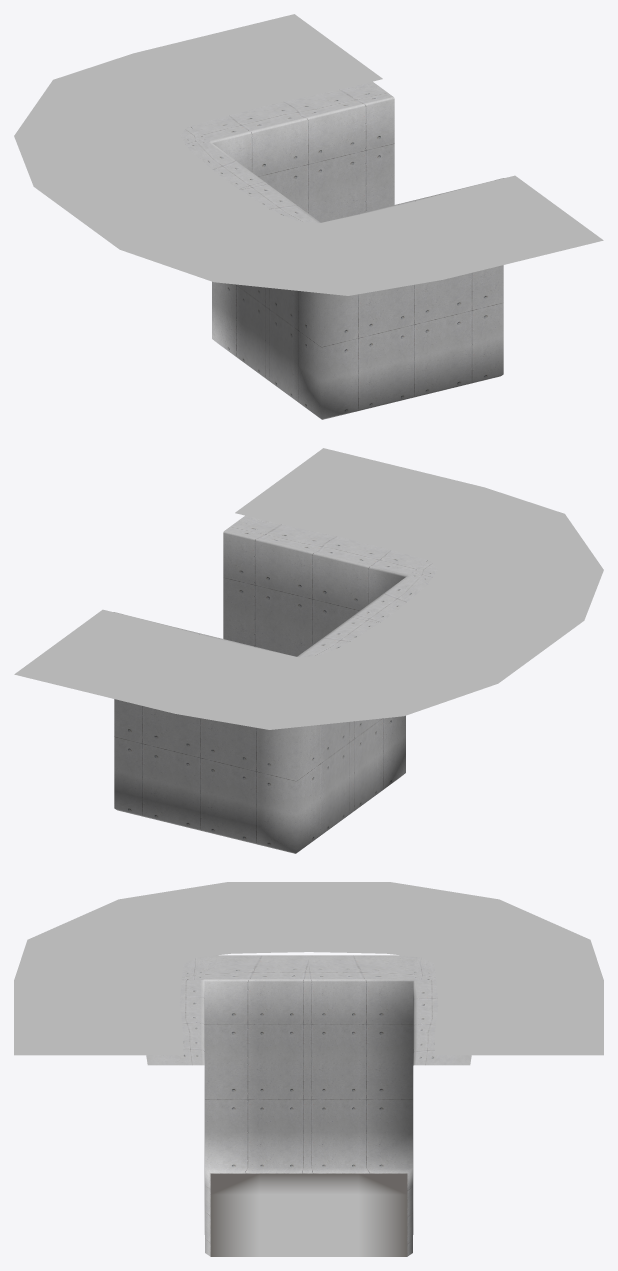
Rendered from ikidomari.fbx.
3 views of the same model, one above another, from view 1: azimuth 30°, elevation 25°; view 2: azimuth 150°, elevation 25°; view 3: azimuth 270°, elevation 25° (orthographic). The views are drawn at different scales.
Visible parts, largest first — view 1: polySurface14, polySurface7; view 2: polySurface14, polySurface7; view 3: polySurface14, polySurface7, floorA.
Boxes of the visible parts, x1,y1,x2,y2 form: polySurface14: (14,14,603,295); polySurface7: (180,81,503,419); polySurface14: (14,448,603,729); polySurface7: (113,515,437,853); polySurface14: (14,882,603,1055); polySurface7: (146,955,471,1256); floorA: (210,1173,407,1256).
Bounding box in the file's own units: 626 × 339 × 900.
